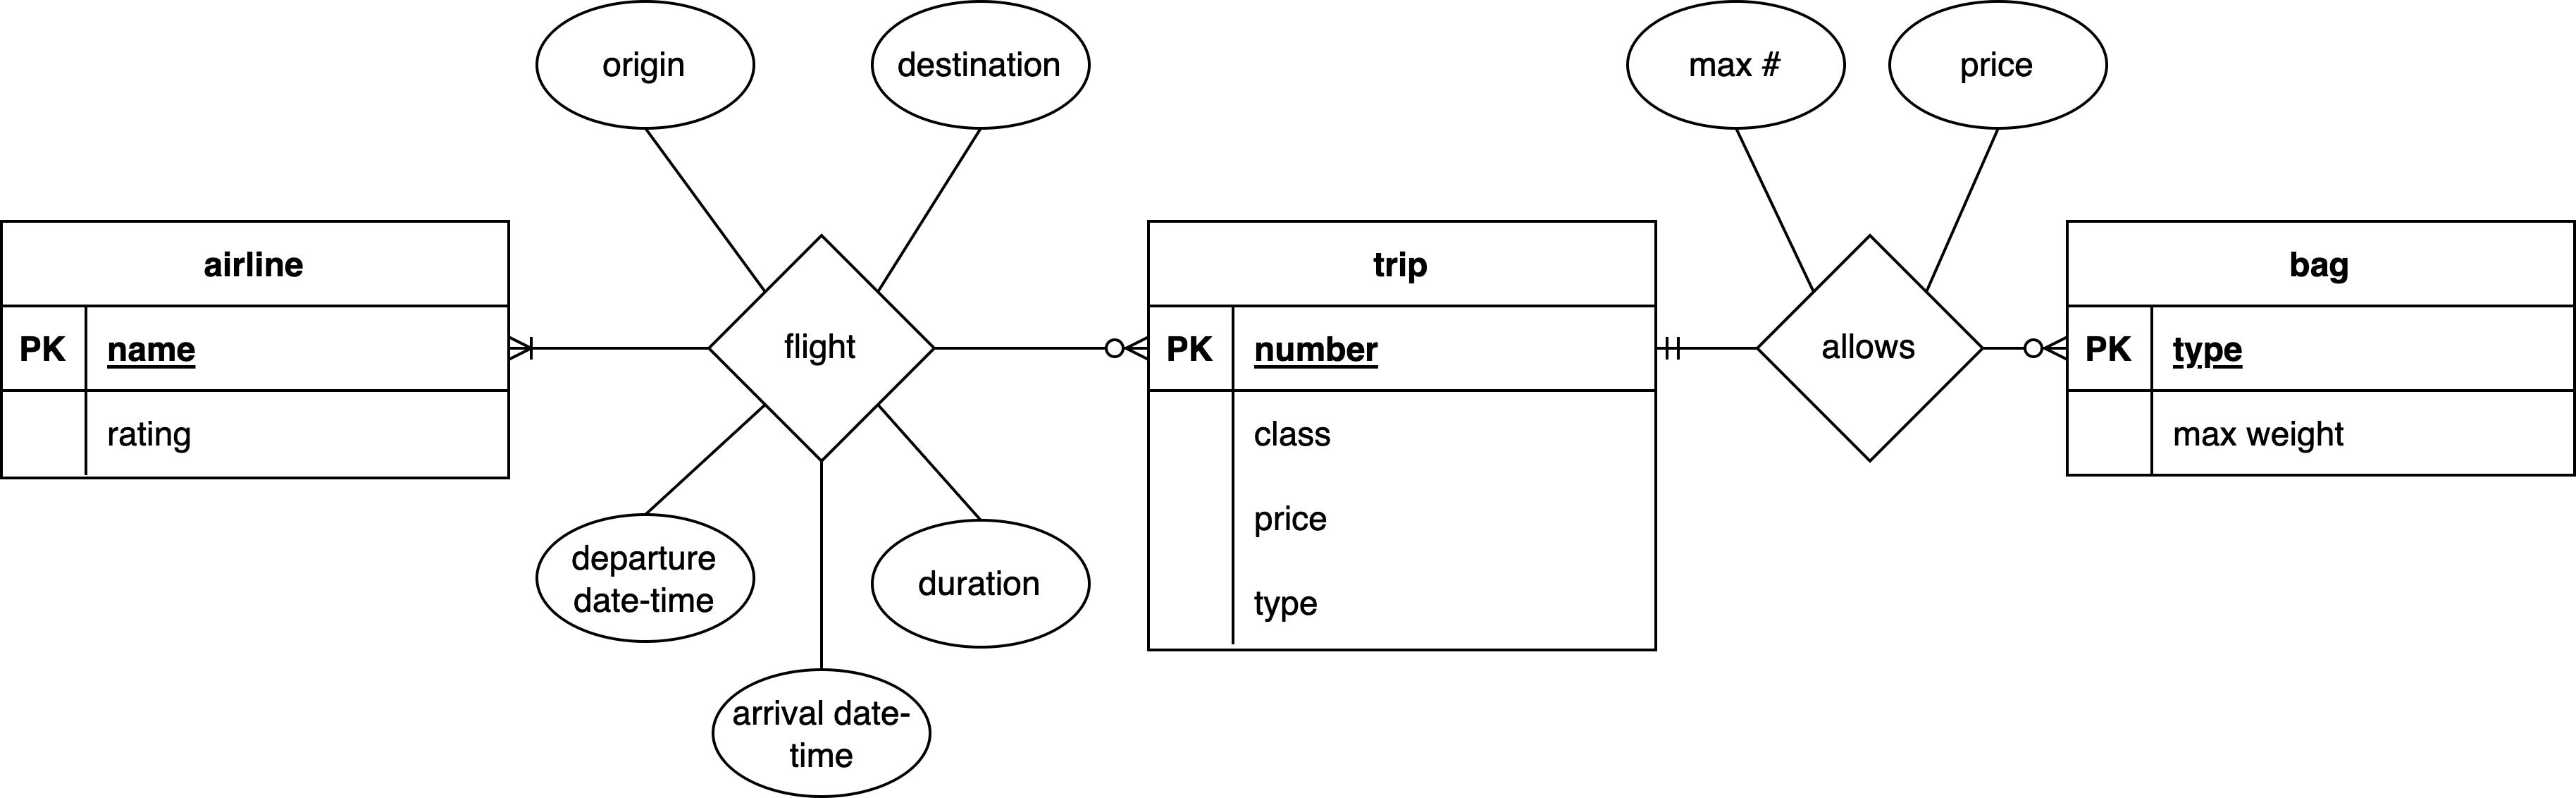attribute: (708, 665, 932, 798), (536, 512, 754, 645), (1888, 2, 2111, 132), (1626, 0, 1845, 132), (872, 520, 1089, 650), (536, 3, 754, 132), (872, 5, 1089, 132)
entity: (1145, 217, 1658, 653), (3, 216, 514, 480), (2063, 217, 2576, 480)
manycardinality: (511, 331, 708, 365), (925, 336, 1150, 362), (1981, 332, 2067, 364)
onecardinality: (1654, 332, 1758, 364)
relationship: (1753, 232, 1981, 464), (706, 234, 935, 462)
